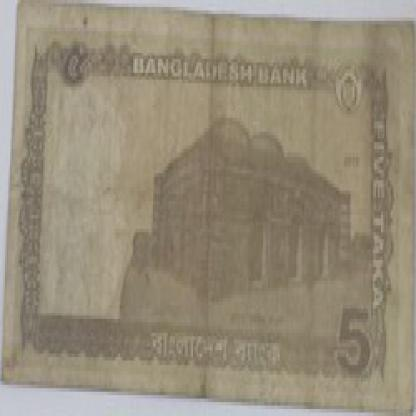Five Taka: (368, 108, 396, 323), (336, 288, 373, 385), (60, 35, 88, 104)
